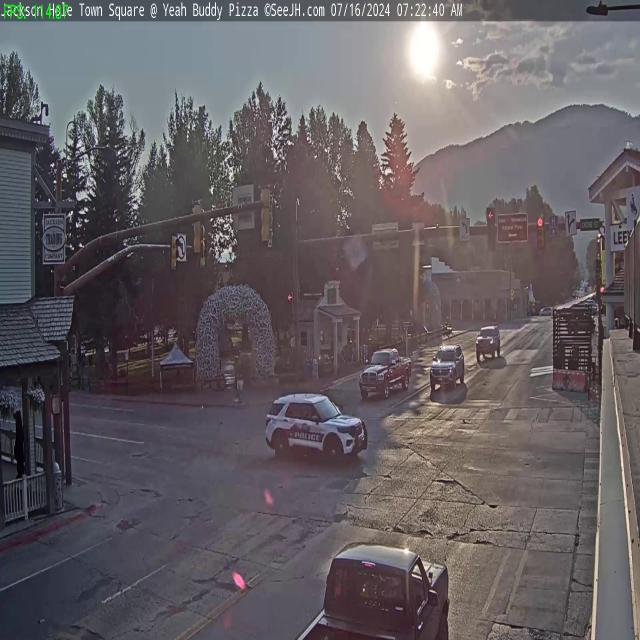person: (232, 356, 242, 405)
pickup: (287, 530, 454, 640), (358, 344, 412, 404)
suv: (261, 388, 369, 468), (429, 342, 466, 392), (475, 324, 500, 362)
traffic light: (260, 184, 274, 245), (190, 199, 203, 254), (169, 230, 180, 276), (486, 208, 496, 252), (536, 214, 544, 250)
